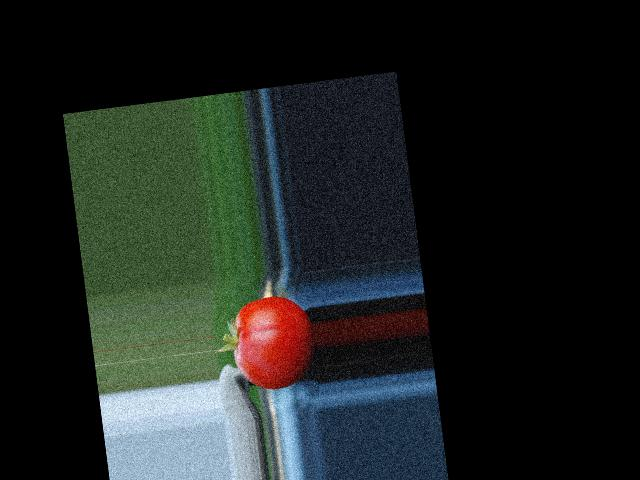tomato: (227, 291, 319, 393)
